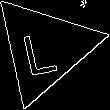L_N: (23, 20, 66, 76)
